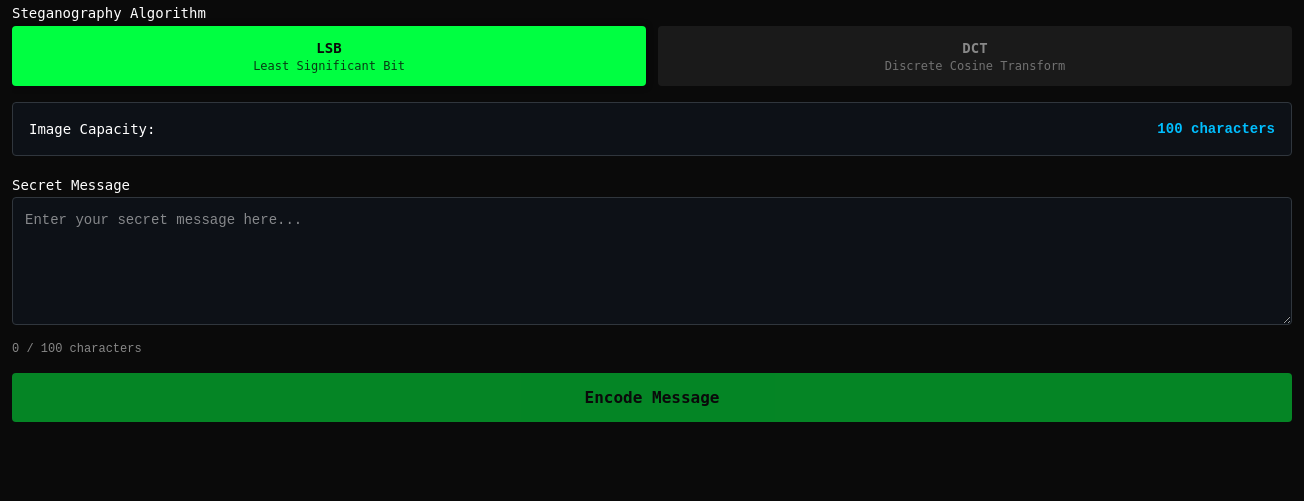
Test: EncodePanel › shows error when encoding fails
Expected: the text "100 characters" is shown, [1157, 119, 1275, 139]
Type "Test" into the text box with placeholder "Enter your secret message here..." at [652, 261], box [12, 197, 1292, 325]
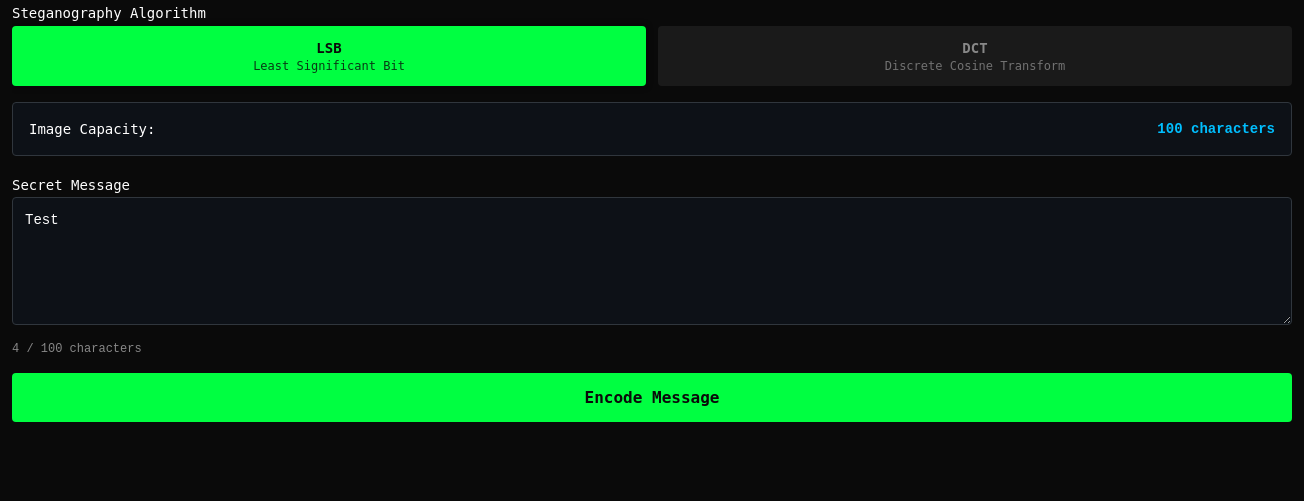
Click the button "Encode Message" at [652, 398], box [12, 373, 1292, 422]
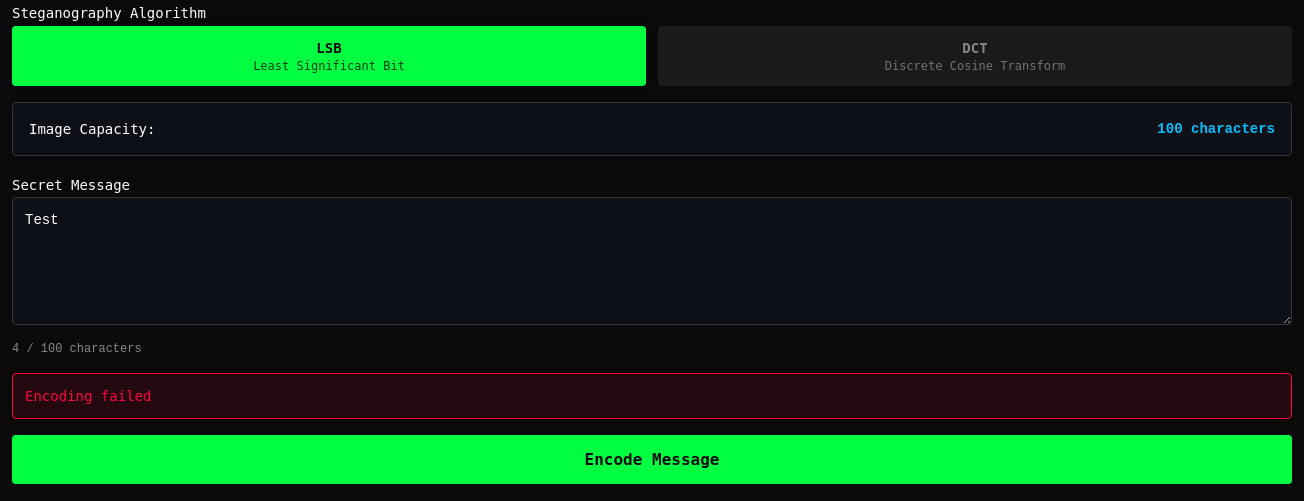
Now the text "Encoding failed" is shown, box [12, 373, 1292, 419]
